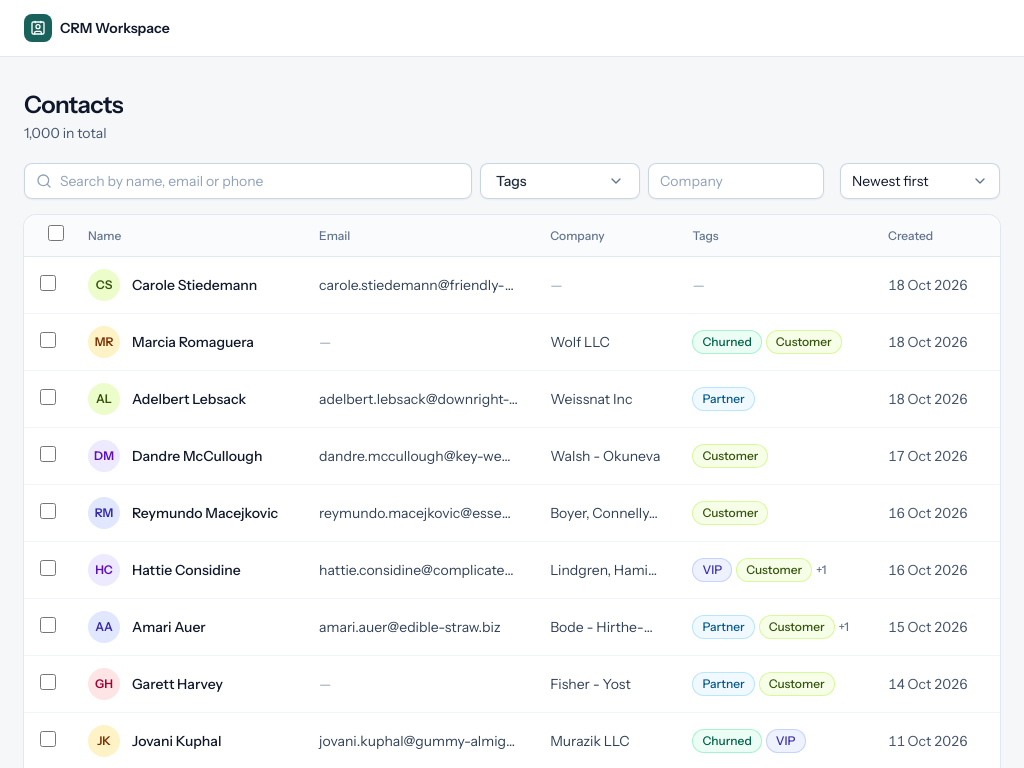
Test case: ContactsListPage › searches after a short pause and keeps the search in the URL
In the search field named "Search contacts": (248, 181) [24,163,472,199], type "jon"
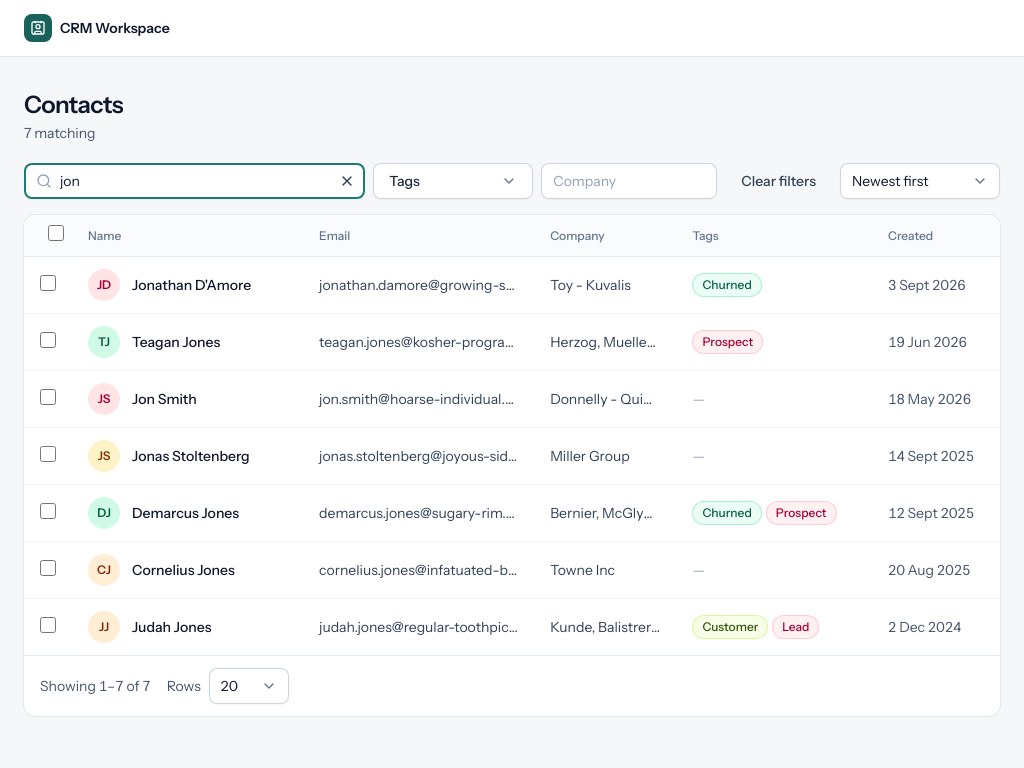
Now the link "Jon Smith" is shown, box [132,389,197,409]
